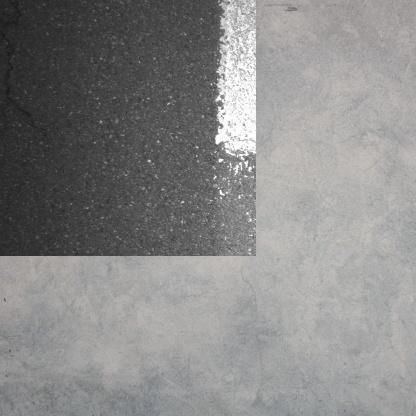Cracks: (0, 0, 47, 128)
